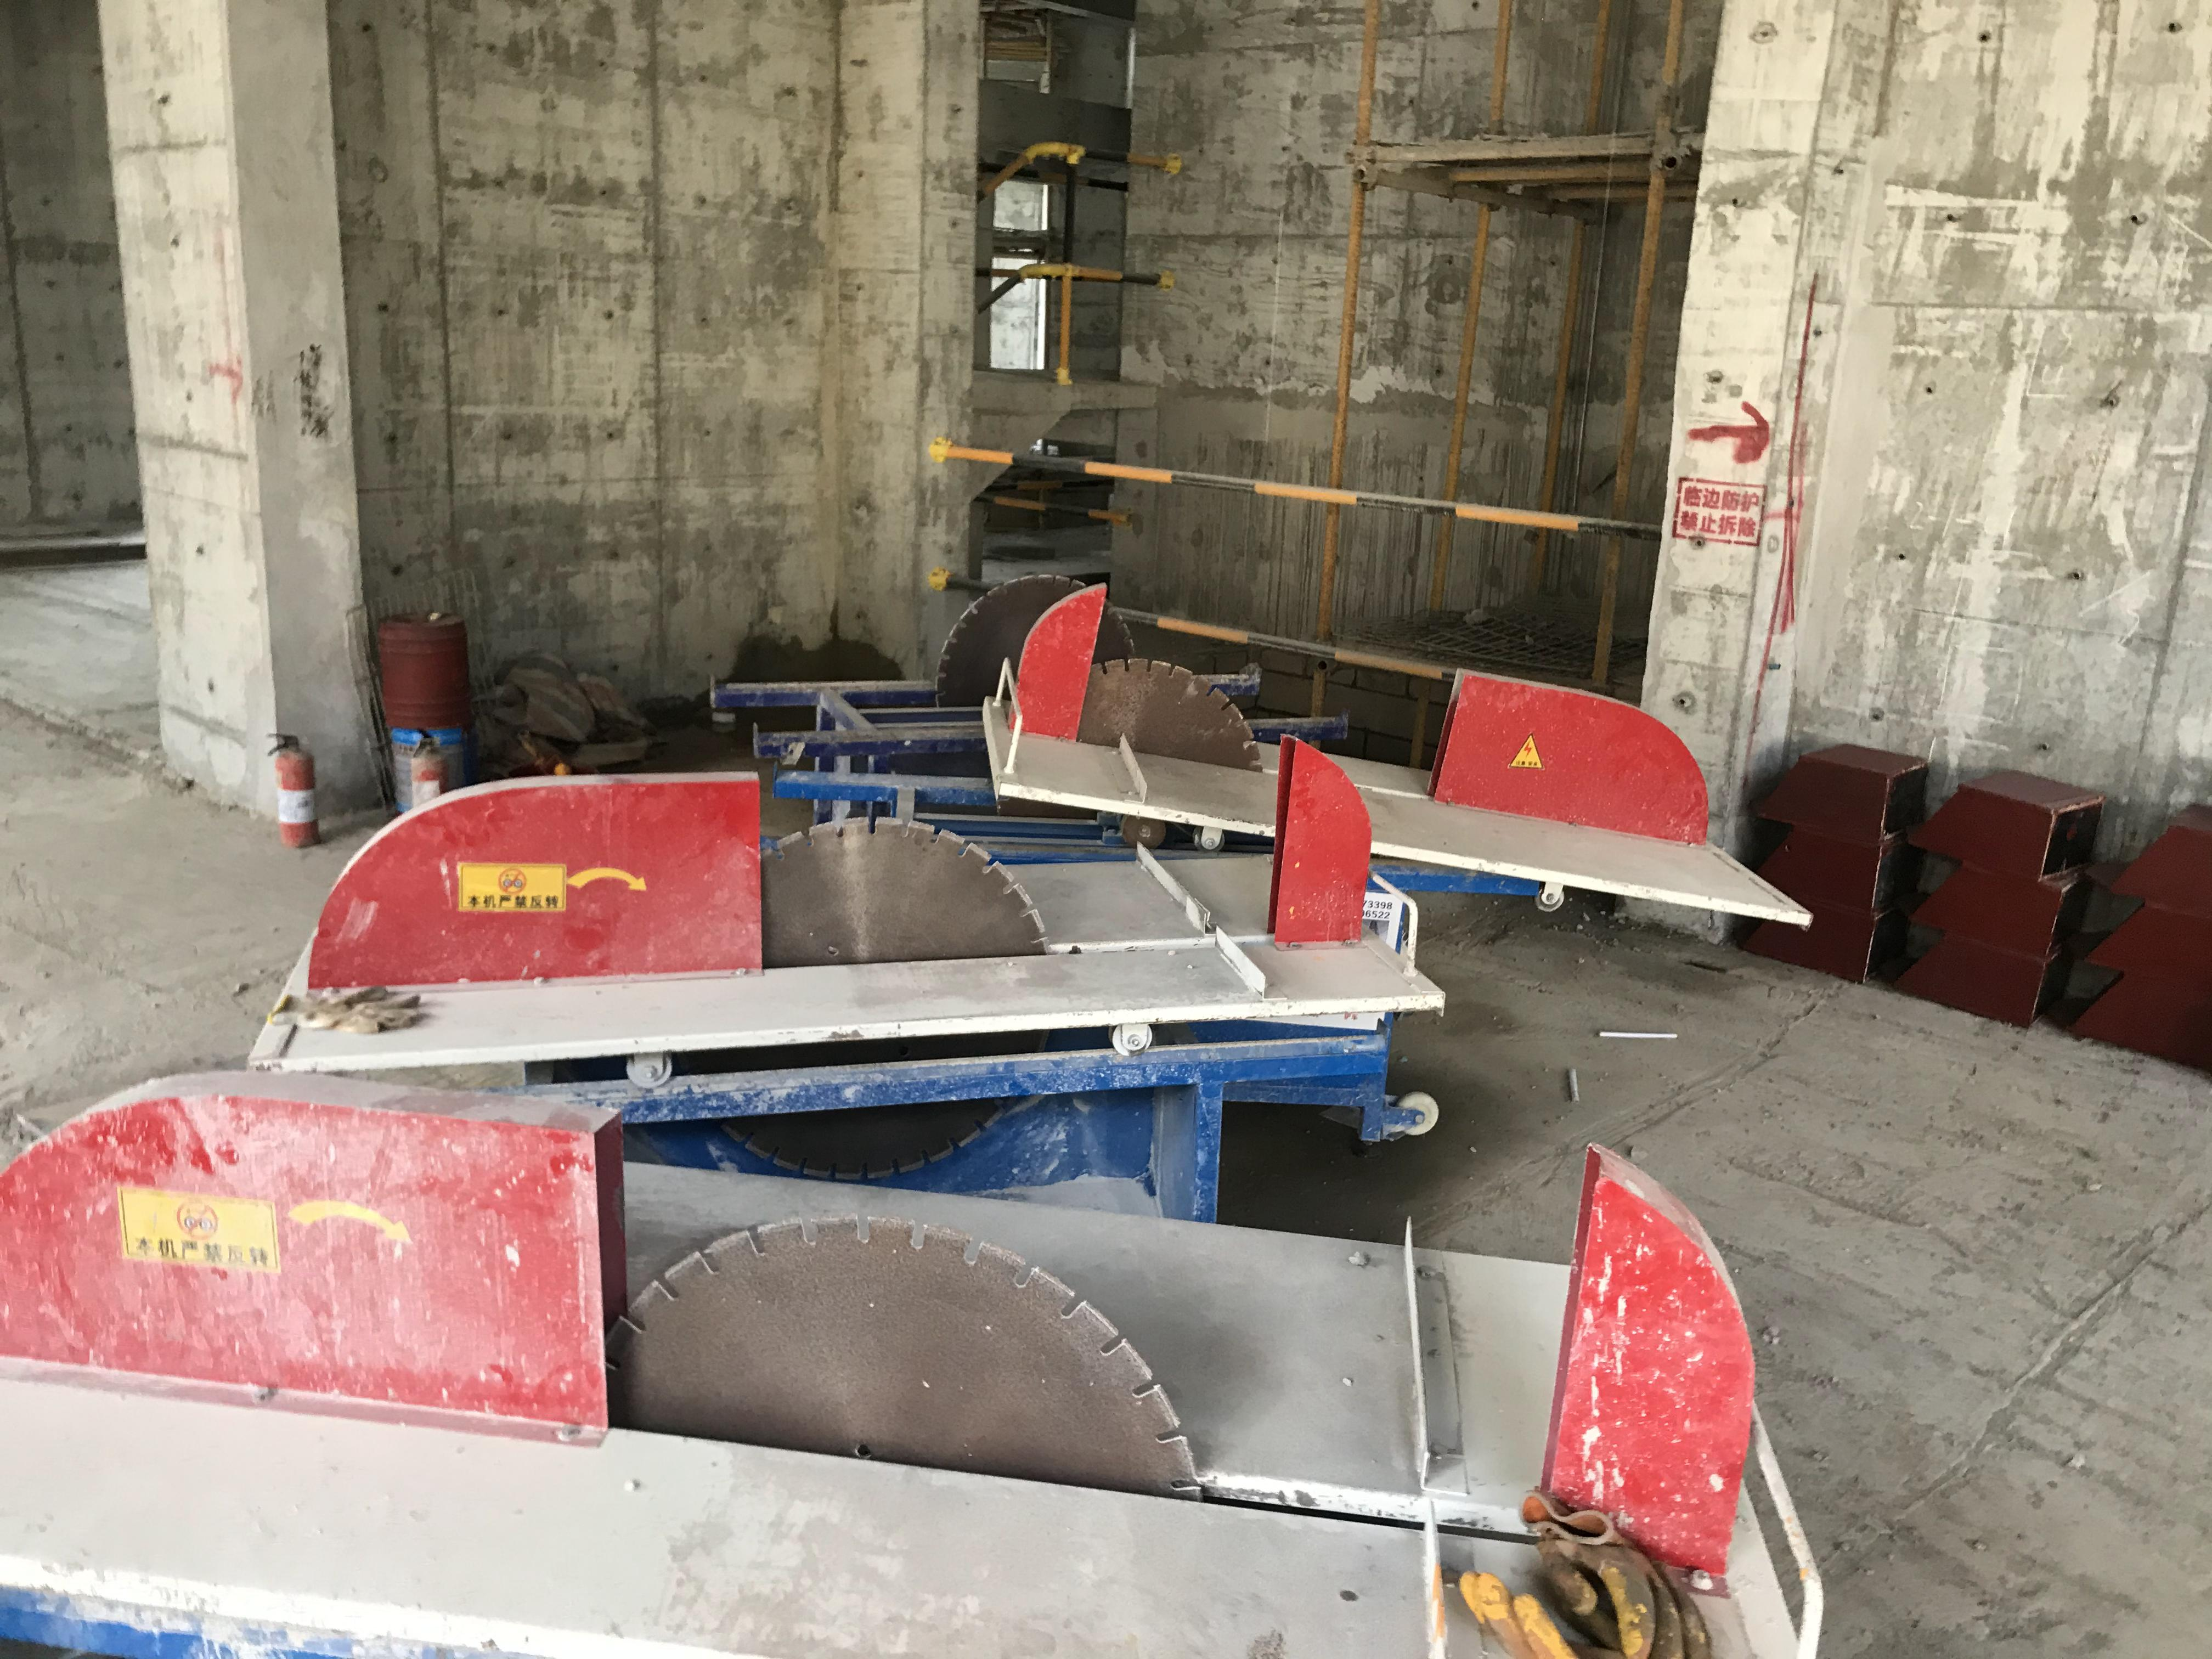cutter: (7, 1072, 1895, 1659), (251, 744, 1437, 1127), (963, 577, 1838, 951)
